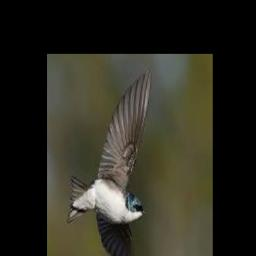Swallow: (68, 69, 153, 256)
